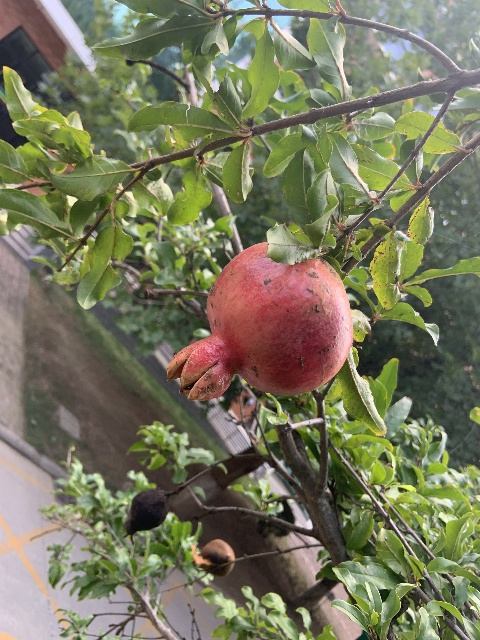ripe: (167, 242, 350, 405)
